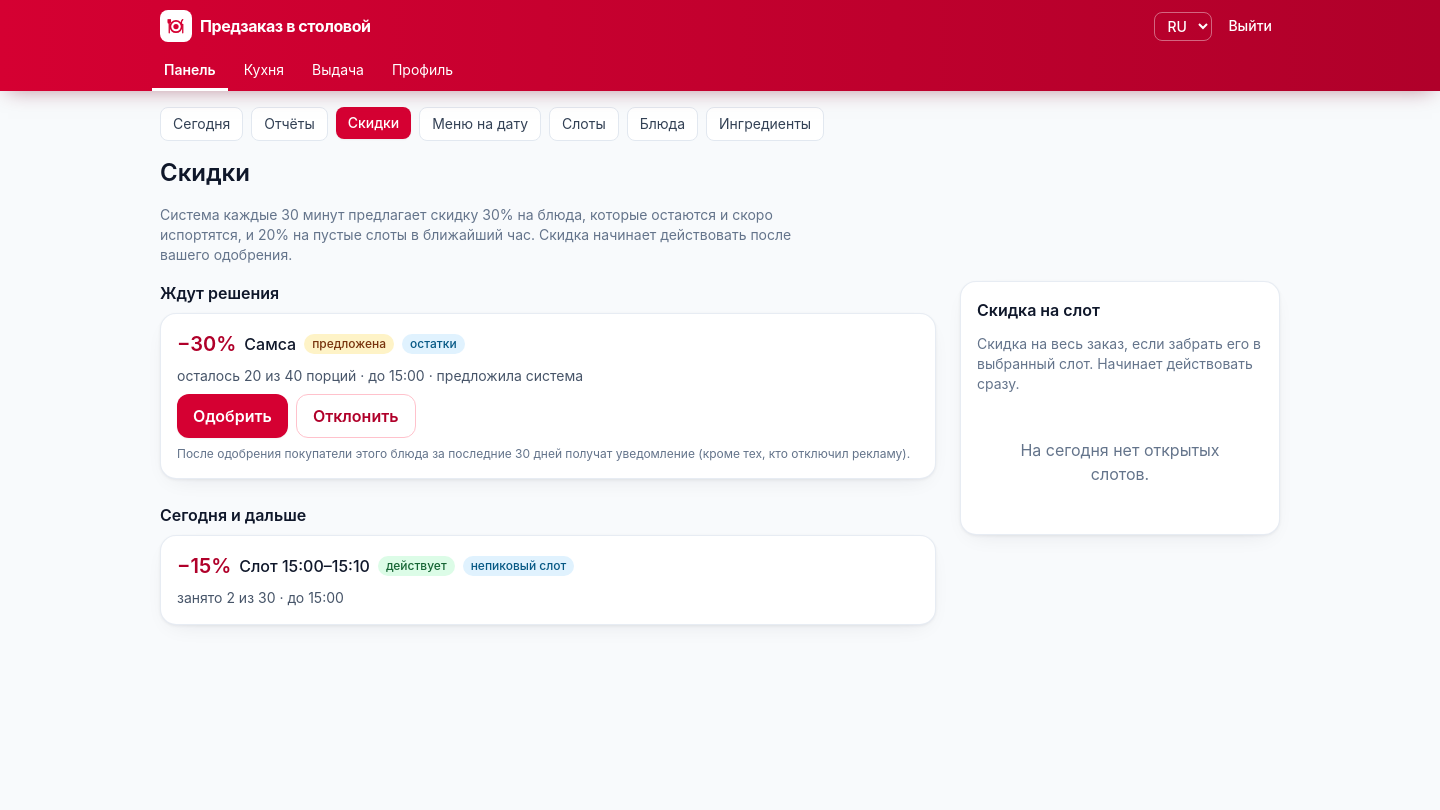
Test case: manager promotions › lists proposals and approves one
The image size is (1440, 810).
Expected: the text "Самса" is shown, 244,332 -> 296,356
Expected: the text "осталось 20 из 40 порций · до 15:00 · предложила система" is shown, 177,367 -> 583,384
Click the button "Одобрить" at (232, 416), box 177,394 -> 288,438
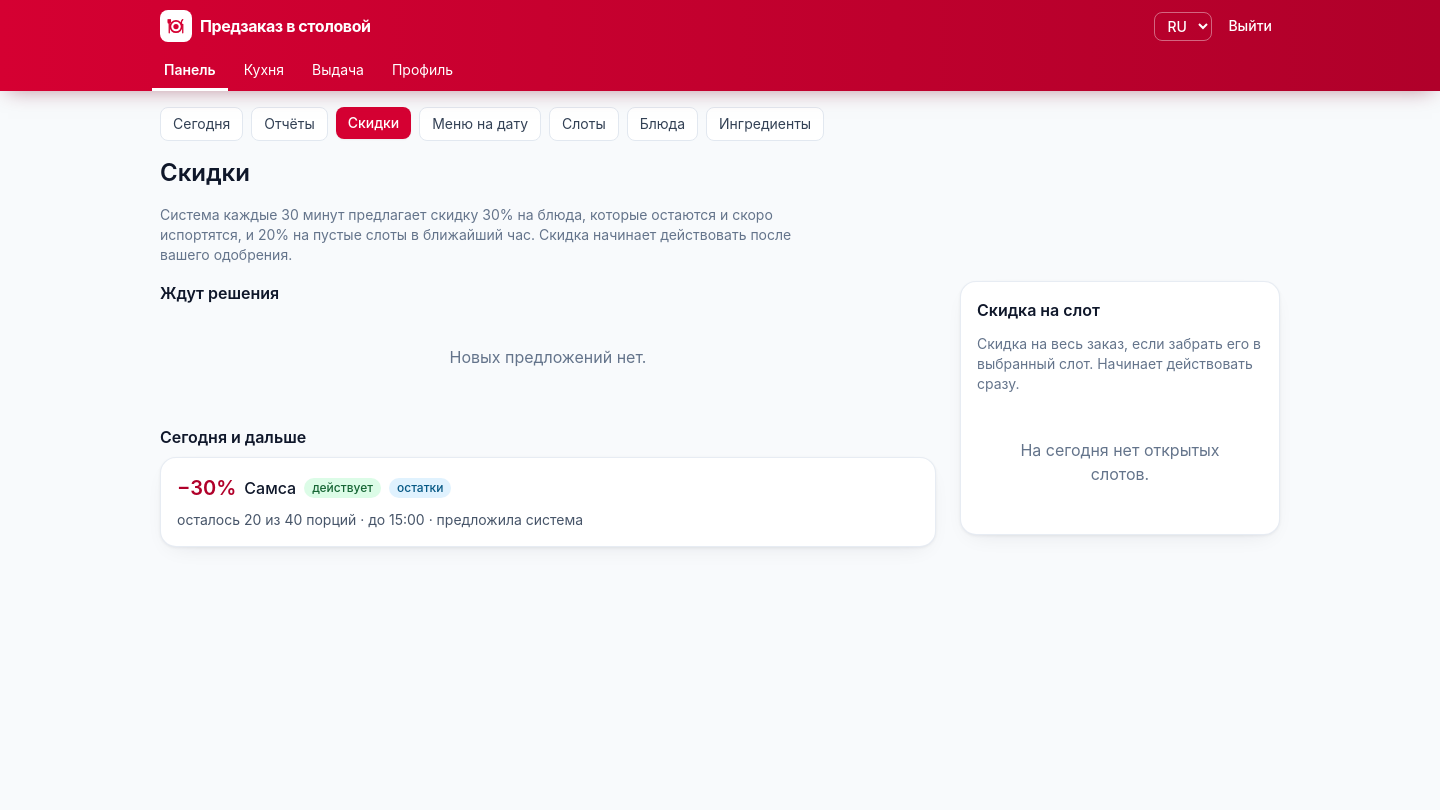
Expected: the text "Новых предложений нет." is shown, 450,347 -> 646,367
